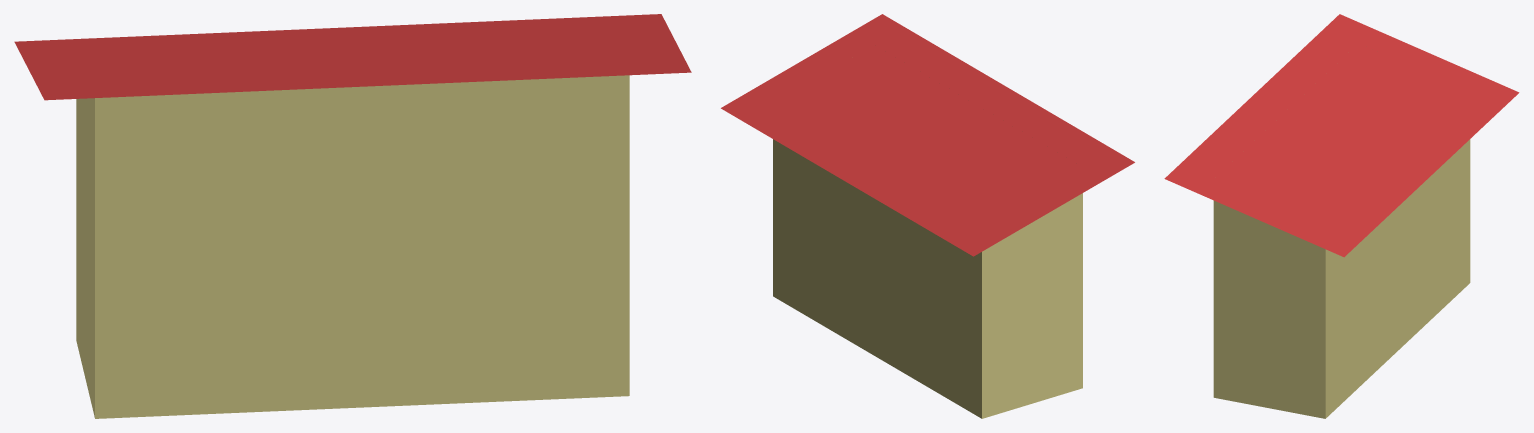
3 renders of one model, left to right at view 1: azimuth 30°, elevation 25°; view 2: azimuth 150°, elevation 25°; view 3: azimuth 270°, elevation 25°, orthographic. The views are drawn at different scales.
Size of the model in its own units: 12.65 by 9.55 by 6.72.
